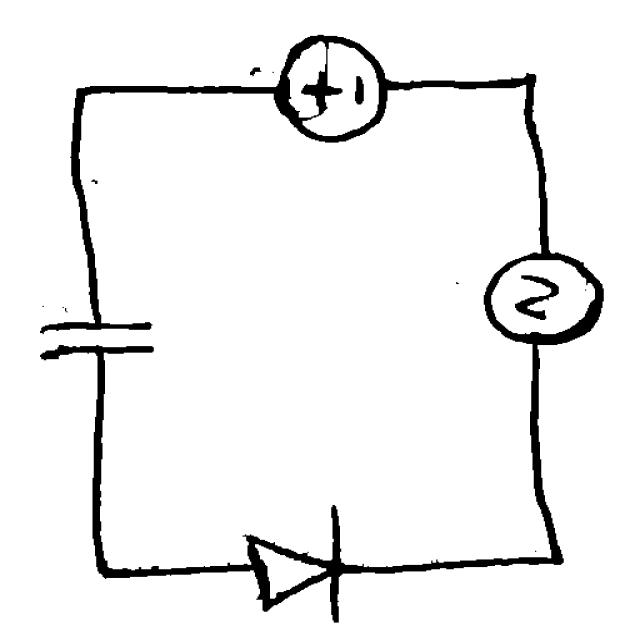ac: (485, 237, 606, 347)
capacitor: (25, 302, 169, 373)
dc: (260, 31, 396, 148)
diode: (228, 494, 359, 628)
